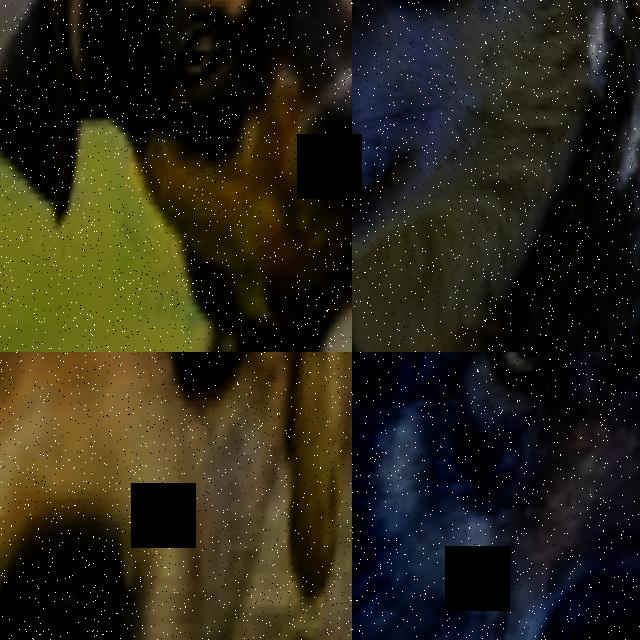dog: (0, 0, 352, 352), (0, 352, 352, 640), (145, 352, 352, 640)
wolf: (352, 0, 640, 352), (352, 352, 640, 640)
